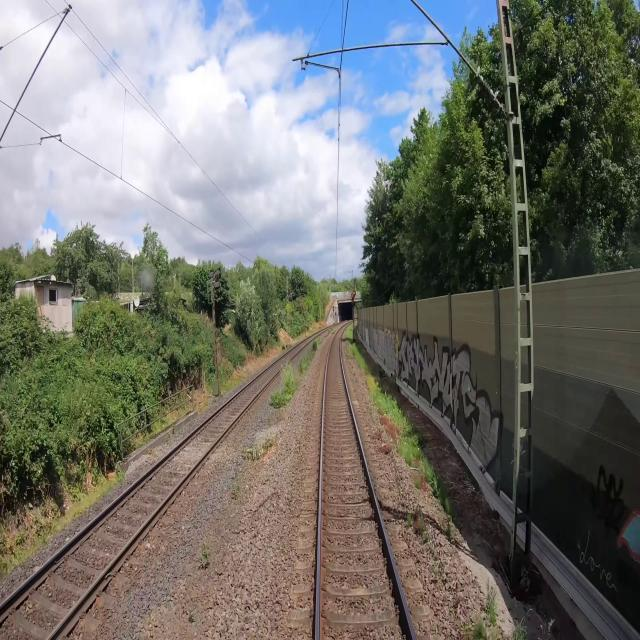Plant: (269, 336, 323, 408), (241, 431, 278, 462), (406, 515, 429, 543), (201, 543, 212, 565), (231, 482, 241, 500), (188, 610, 196, 623)
